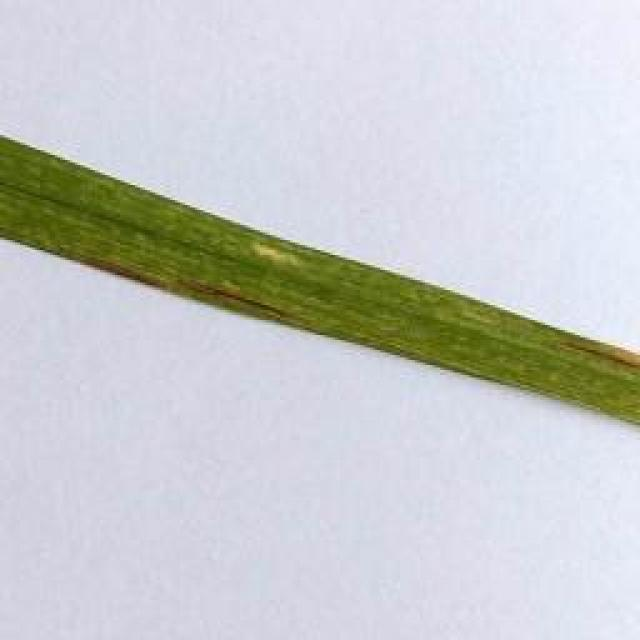Unhealthy: (178, 278, 281, 315), (562, 341, 640, 370), (83, 258, 157, 288), (251, 245, 293, 261)
